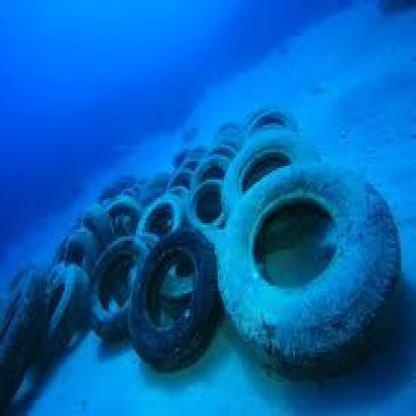tire: (221, 161, 404, 368), (128, 225, 223, 371), (88, 243, 163, 343), (139, 191, 188, 248), (172, 177, 228, 225)
